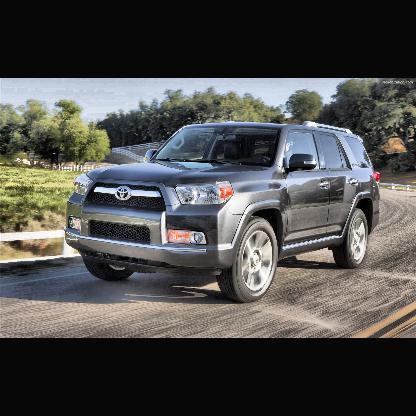Toyota 4Runner SUV 2012: (65, 120, 381, 304)
